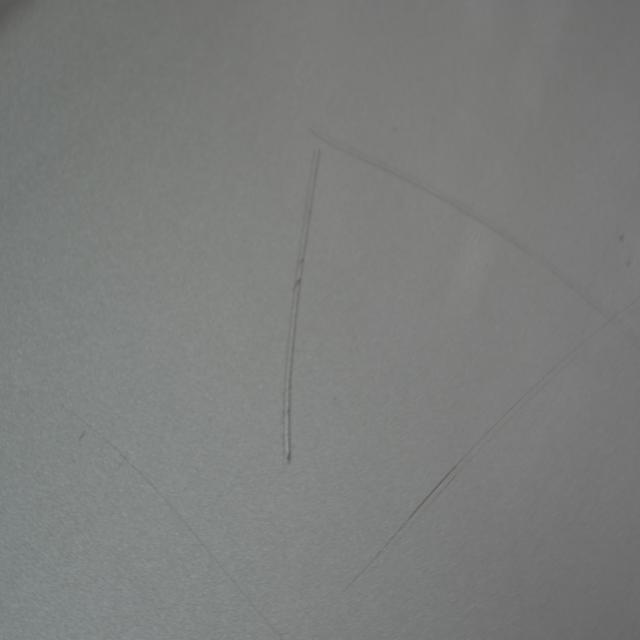dirt: (617, 227, 624, 255), (624, 255, 634, 270)
scratch: (333, 288, 640, 602), (310, 117, 640, 353), (74, 399, 290, 638), (278, 140, 328, 471)
